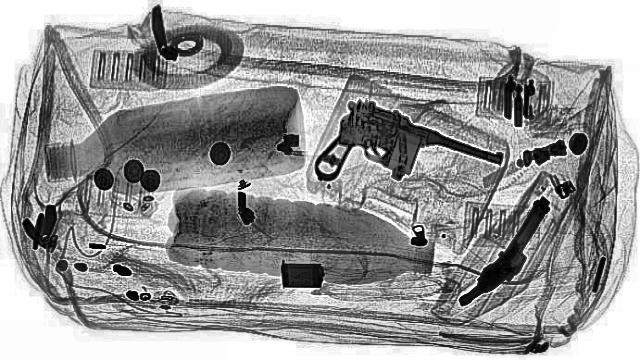Gun: (267, 94, 515, 217), (453, 198, 569, 312)
